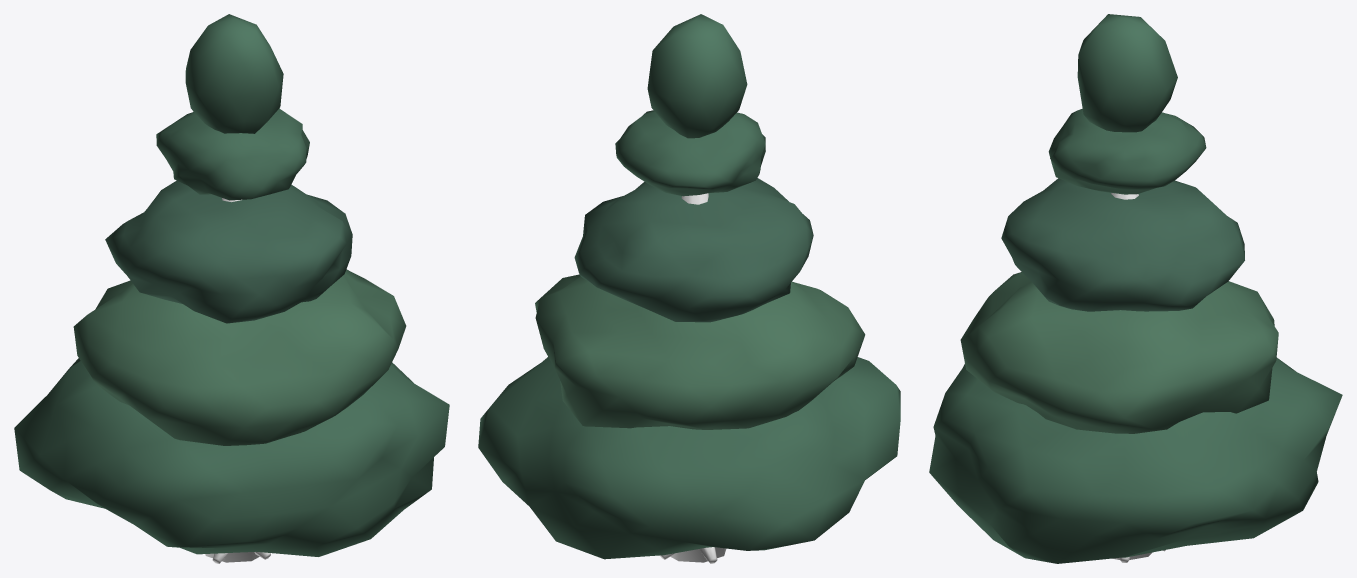
Rendered from TreePine.fbx.
3 views of the same model, side by side, from view 1: azimuth 30°, elevation 25°; view 2: azimuth 150°, elevation 25°; view 3: azimuth 270°, elevation 25° (orthographic).
Visible parts, largest first — view 1: TreePine_Foliage, TreePine_Bark; view 2: TreePine_Foliage, TreePine_Bark; view 3: TreePine_Foliage.
Part boxes in pixels (left/top/right/bottom): TreePine_Foliage: left=14, top=14, right=449, bottom=556; TreePine_Bark: left=205, top=198, right=270, bottom=563; TreePine_Foliage: left=478, top=14, right=900, bottom=559; TreePine_Bark: left=659, top=193, right=726, bottom=563; TreePine_Foliage: left=929, top=14, right=1342, bottom=563.
Bounding box in the file's own units: 72.85 × 105 × 74.28.
